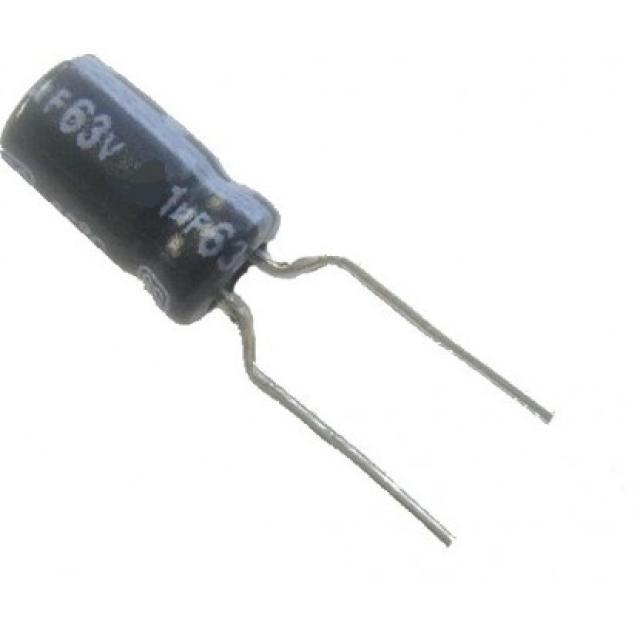Capacitor: (0, 56, 552, 547)
